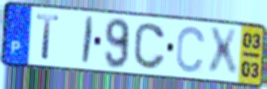9: (101, 16, 131, 71)
C: (132, 21, 167, 72), (175, 25, 207, 75)
I: (79, 15, 96, 67)
T: (35, 13, 62, 62)
X: (207, 26, 240, 78)
